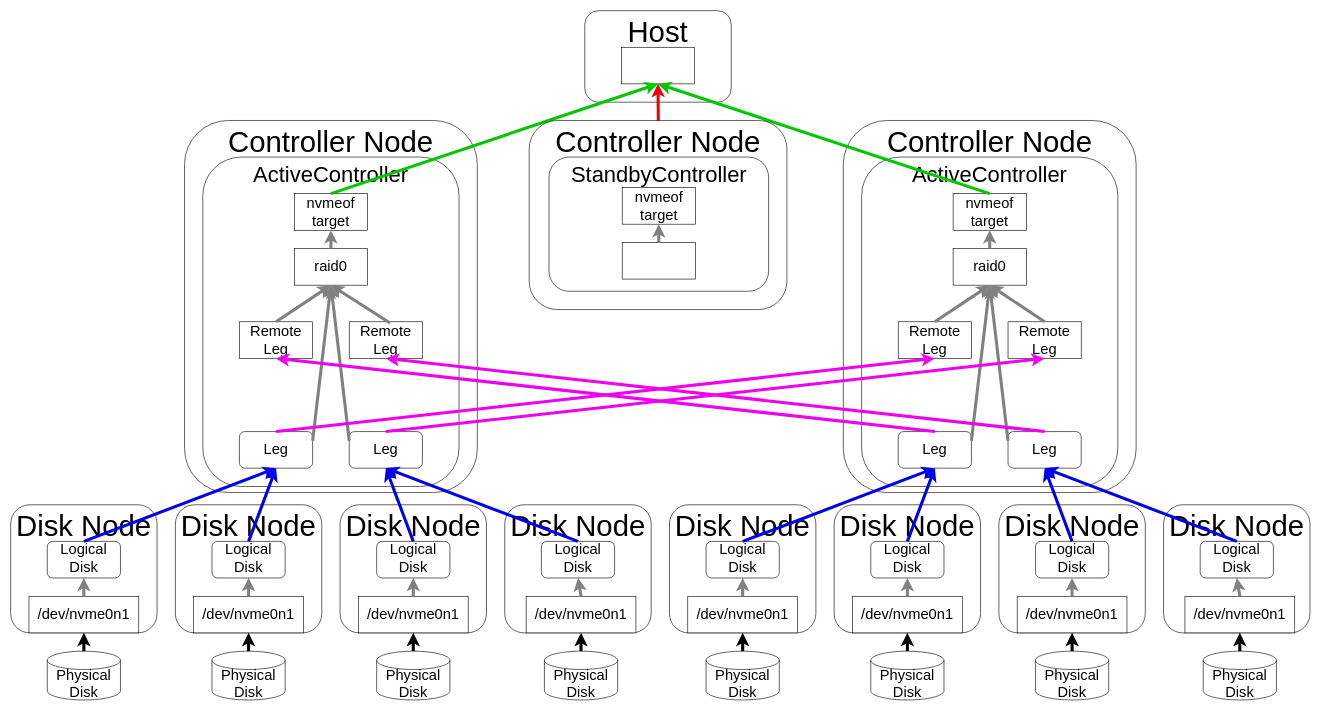
Some shapes in this 1321 by 711 pixel diagram are drawn without their labels. Each missing label, with the centre of its shape:
"error" goes at pixel 658 260.
"nvmeof multipath" goes at pixel 658 65.
